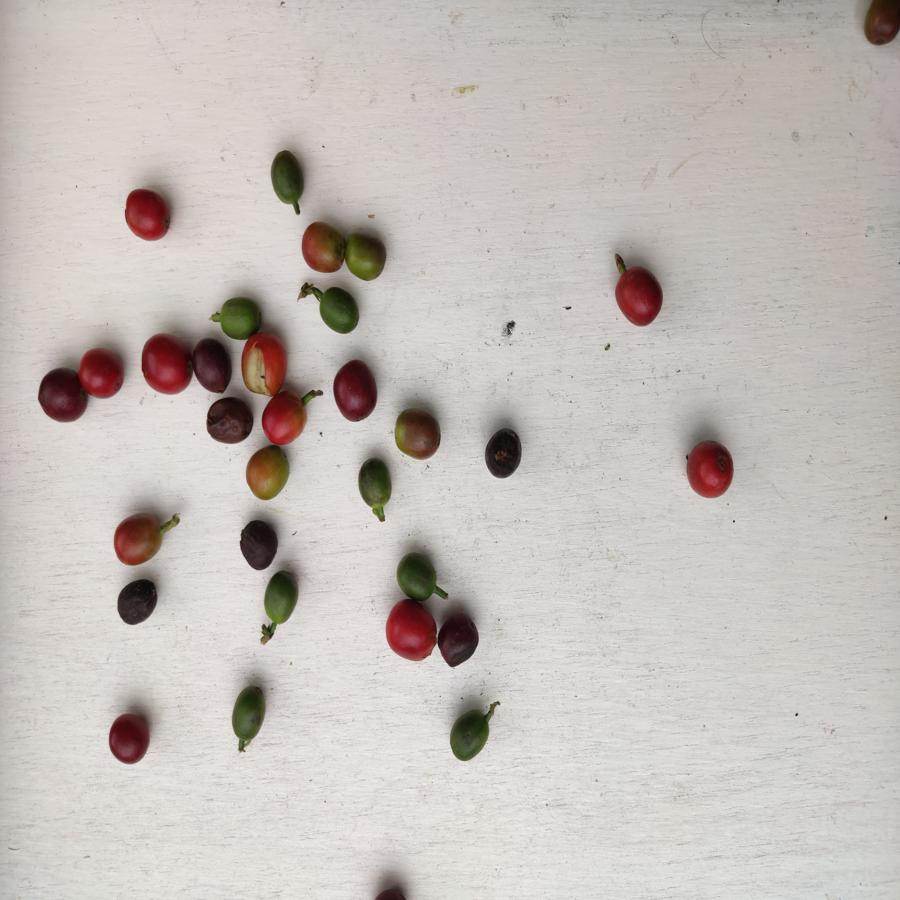Inmaduro: (261, 571, 304, 625), (448, 710, 491, 764), (316, 288, 365, 334), (214, 294, 266, 337), (230, 684, 269, 740), (356, 458, 393, 514), (395, 552, 438, 599), (270, 151, 305, 206)
Maduro: (682, 438, 738, 505), (140, 334, 193, 395), (117, 188, 176, 242), (613, 267, 665, 328), (386, 601, 437, 662), (242, 336, 293, 394), (261, 393, 309, 447), (77, 348, 127, 399)
Pinton: (393, 404, 444, 463), (113, 515, 166, 567), (301, 219, 345, 276), (247, 447, 291, 502), (344, 232, 389, 285)
Sobremaduro: (36, 363, 87, 427), (481, 426, 530, 483), (437, 612, 483, 669), (192, 335, 234, 395), (107, 709, 150, 767), (205, 395, 251, 443), (238, 519, 279, 570), (118, 578, 159, 626), (864, 1, 900, 50)
